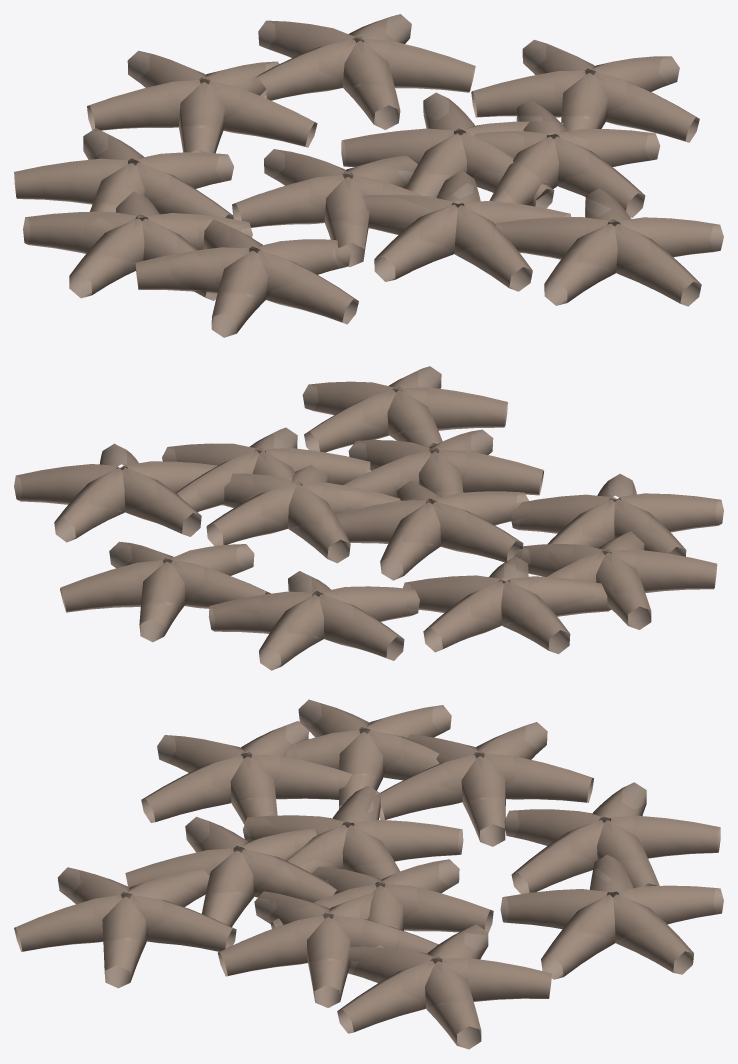
The model's file is star.fbx.
3 renders of one model, top to bottom at view 1: azimuth 30°, elevation 25°; view 2: azimuth 150°, elevation 25°; view 3: azimuth 270°, elevation 25°, orthographic. The views are drawn at different scales.
Parts seen in each view (by area): view 1: starfishFat4Flower, starfishFat11Flower, starfishFat7Flower, starfishFat8Flower, starfishFat10Flower, starfishFat3Flower, starfishFat5Flower, starfishFat6Flower, starfishFat1Flower, starfishFat2Flower; view 2: starfishFat4Flower, starfishFat5Flower, starfishFat8Flower, starfishFat11Flower, starfishFat10Flower, starfishFat1Flower, starfishFat7Flower, starfishFat2Flower, starfishFat6Flower, starfishFat3Flower; view 3: starfishFat4Flower, starfishFat8Flower, starfishFat10Flower, starfishFat11Flower, starfishFat5Flower, starfishFat7Flower, starfishFat3Flower, starfishFat1Flower, starfishFat6Flower, starfishFat2Flower.
Boxes of the visible parts, left/top/right/bottom form: starfishFat4Flower: left=87, top=50, right=660, bottom=217; starfishFat11Flower: left=496, top=188, right=723, bottom=306; starfishFat7Flower: left=135, top=219, right=358, bottom=337; starfishFat8Flower: left=255, top=14, right=475, bottom=129; starfishFat10Flower: left=471, top=39, right=699, bottom=142; starfishFat3Flower: left=362, top=170, right=571, bottom=291; starfishFat5Flower: left=14, top=128, right=233, bottom=219; starfishFat6Flower: left=23, top=191, right=252, bottom=300; starfishFat1Flower: left=232, top=149, right=421, bottom=266; starfishFat2Flower: left=341, top=92, right=563, bottom=208; starfishFat4Flower: left=162, top=427, right=419, bottom=670; starfishFat5Flower: left=403, top=556, right=611, bottom=654; starfishFat8Flower: left=60, top=541, right=270, bottom=642; starfishFat11Flower: left=302, top=366, right=507, bottom=452; starfishFat10Flower: left=14, top=443, right=217, bottom=542; starfishFat1Flower: left=335, top=480, right=528, bottom=580; starfishFat7Flower: left=511, top=474, right=723, bottom=556; starfishFat2Flower: left=202, top=464, right=400, bottom=563; starfishFat6Flower: left=514, top=531, right=717, bottom=629; starfishFat3Flower: left=343, top=429, right=543, bottom=502; starfishFat4Flower: left=217, top=782, right=720, bottom=1007; starfishFat8Flower: left=500, top=854, right=723, bottom=979; starfishFat10Flower: left=337, top=924, right=552, bottom=1049; starfishFat11Flower: left=14, top=867, right=236, bottom=988; starfishFat5Flower: left=379, top=722, right=593, bottom=846; starfishFat7Flower: left=141, top=721, right=352, bottom=824; starfishFat3Flower: left=125, top=816, right=338, bottom=926; starfishFat1Flower: left=243, top=785, right=463, bottom=879; starfishFat6Flower: left=285, top=699, right=451, bottom=808; starfishFat2Flower: left=270, top=859, right=493, bottom=947.
Size of the model in its own units: 5.51 by 0.416 by 5.14.
